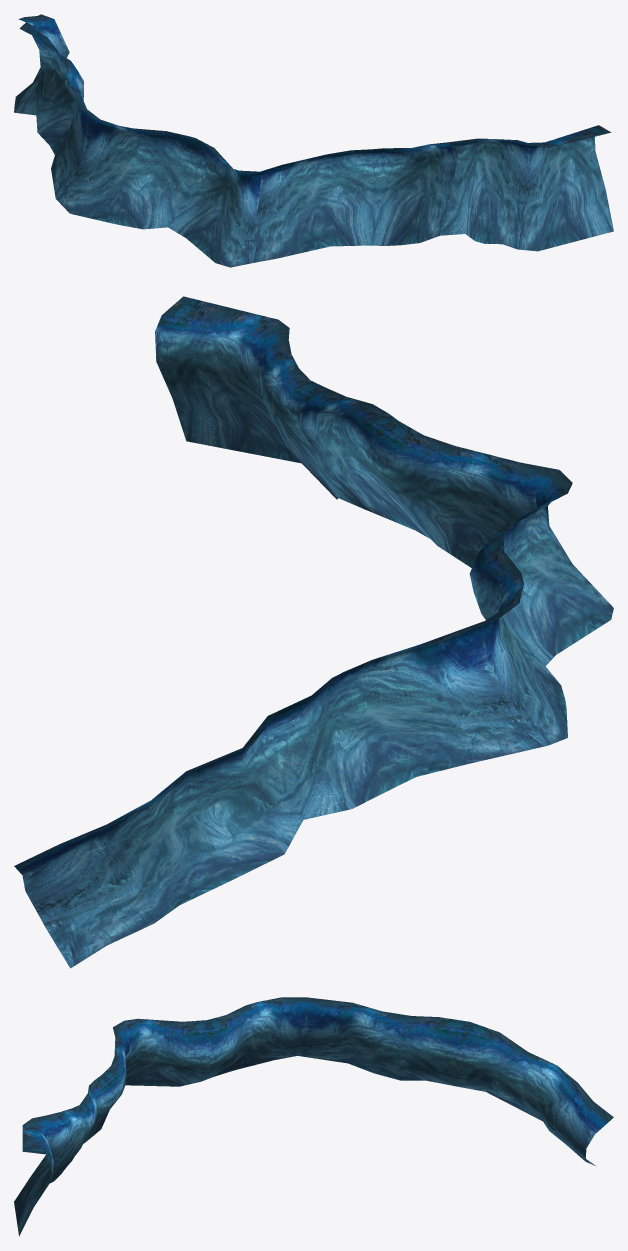
File: f_2303_floor089.FBX
The picture shows the model from 3 angles, top to bottom: view 1: azimuth 30°, elevation 25°; view 2: azimuth 150°, elevation 25°; view 3: azimuth 270°, elevation 25°; orthographic projection. The views are drawn at different scales.
Visible parts, largest first — view 1: f_2303_floor089; view 2: f_2303_floor089; view 3: f_2303_floor089.
Boxes of the visible parts, <box> form: f_2303_floor089: <box>14,14,613,267</box>; f_2303_floor089: <box>14,296,613,968</box>; f_2303_floor089: <box>14,997,613,1236</box>.
Size of the model in its own units: 3610 by 1232 by 5388.
